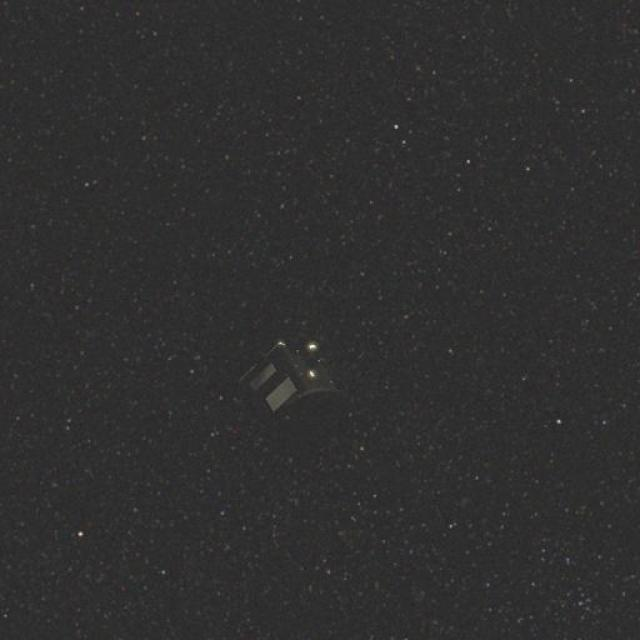proba_3_ocs: (234, 313, 351, 433)
